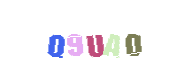9: (40, 0, 120, 80)
A: (55, 0, 135, 80)
O: (93, 0, 173, 80)
Q: (16, 0, 96, 80)
U: (52, 0, 132, 80)
